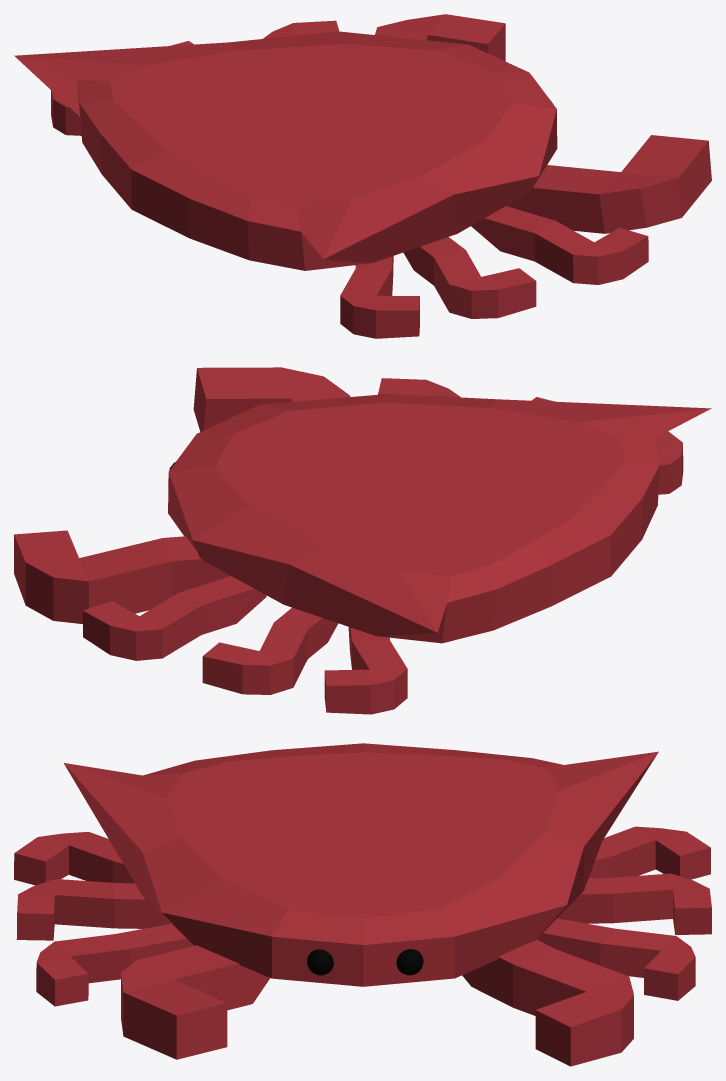
The model's file is crab 1.fbx.
3 views of the same model, one above another, from view 1: azimuth 30°, elevation 25°; view 2: azimuth 150°, elevation 25°; view 3: azimuth 270°, elevation 25° (orthographic). The views are drawn at different scales.
Parts seen in each view (by area): view 1: Crab, Cube; view 2: Crab, Cube; view 3: Crab, Cube, Sphere.001, Sphere.
Boxes of the visible parts, box(x1,y1,x2,y2) form: Crab: box(14, 14, 711, 338); Cube: box(375, 15, 505, 59); Crab: box(14, 367, 711, 714); Cube: box(14, 530, 229, 623); Crab: box(14, 743, 711, 1066); Cube: box(462, 939, 630, 1066); Sphere.001: box(396, 949, 423, 975); Sphere: box(307, 949, 333, 975).
Size of the model in its own units: 86.3 by 15.91 by 102.
